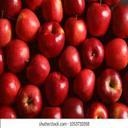apple: (0, 1, 128, 118)
